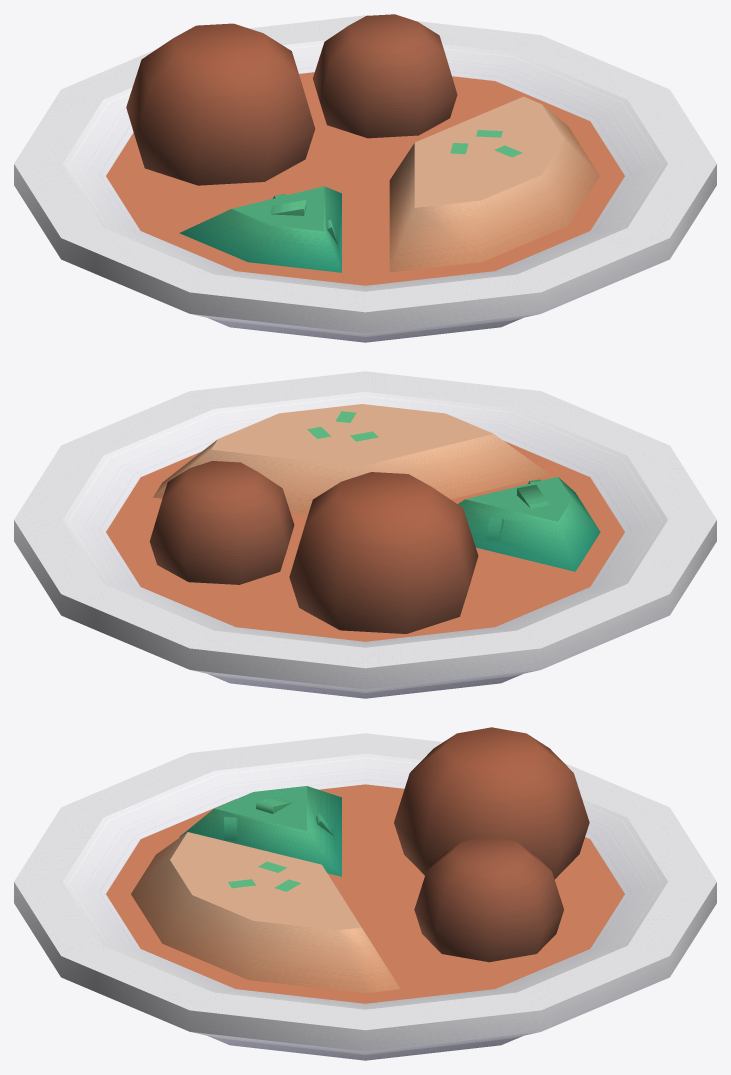
Rendered from plate-dinner.glb.
The picture shows the model from 3 angles, top to bottom: view 1: azimuth 30°, elevation 25°; view 2: azimuth 150°, elevation 25°; view 3: azimuth 270°, elevation 25°; orthographic projection.
Visible parts, largest first — view 1: plate-dinner; view 2: plate-dinner; view 3: plate-dinner.
Part boxes in pixels (bbox=[...]): plate-dinner: bbox=[14, 14, 716, 342]; plate-dinner: bbox=[14, 371, 716, 698]; plate-dinner: bbox=[14, 727, 716, 1060].
Size of the model in its own units: 0.8918 by 0.2214 by 0.8918.
1 material, 1 textured.
